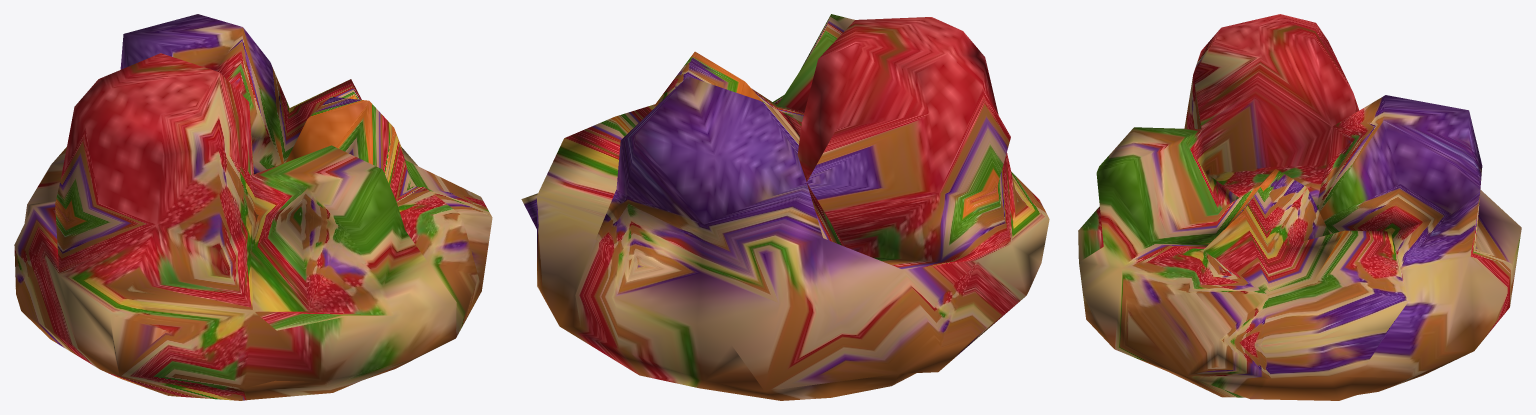
Rendered from candy-gumdrop-cluster-far-BUnot3PD.glb.
3 views of the same model, side by side, from view 1: azimuth 30°, elevation 25°; view 2: azimuth 150°, elevation 25°; view 3: azimuth 270°, elevation 25° (orthographic). The views are drawn at different scales.
Visible parts, largest first — view 1: tripo_node_802667cd-89f1-4cbd-8733-680388ca156a; view 2: tripo_node_802667cd-89f1-4cbd-8733-680388ca156a; view 3: tripo_node_802667cd-89f1-4cbd-8733-680388ca156a.
Boxes of the visible parts, x1,y1,x2,y2 form: tripo_node_802667cd-89f1-4cbd-8733-680388ca156a: (14, 14, 492, 400); tripo_node_802667cd-89f1-4cbd-8733-680388ca156a: (521, 14, 1049, 400); tripo_node_802667cd-89f1-4cbd-8733-680388ca156a: (1078, 14, 1521, 400).
Size of the model in its own units: 0.9648 by 0.6934 by 0.9776.
1 material, 1 textured.
